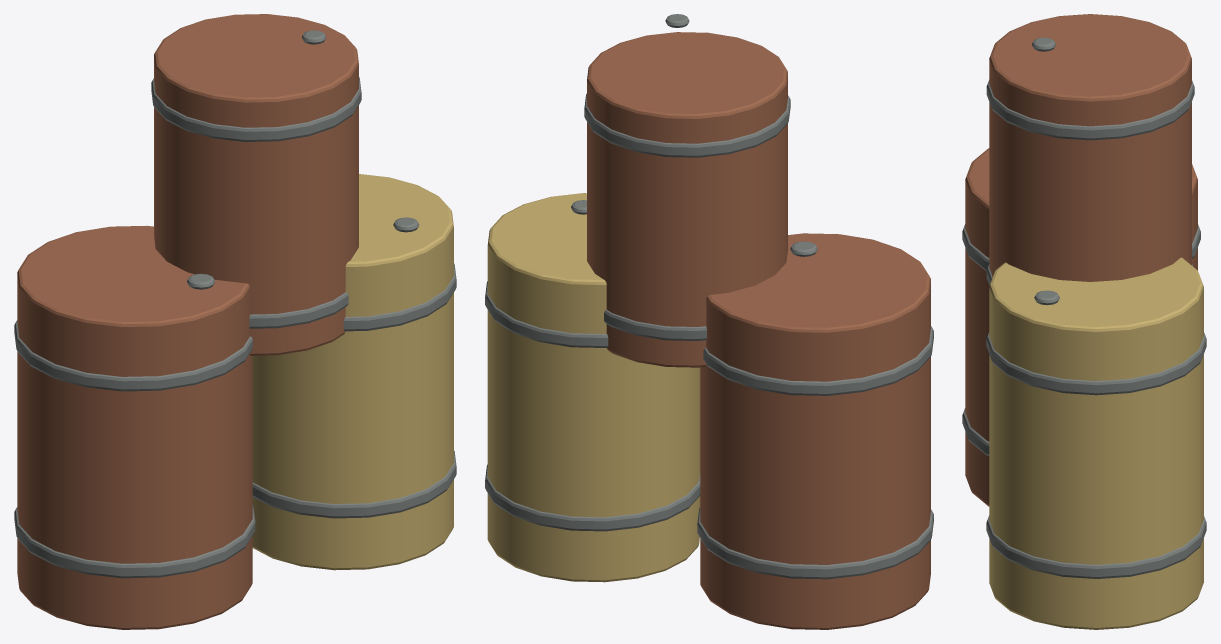
The model's file is Apoc_Prop_Rusty_Drum_Stack.fbx.
3 views of the same model, side by side, from view 1: azimuth 30°, elevation 25°; view 2: azimuth 150°, elevation 25°; view 3: azimuth 270°, elevation 25° (orthographic).
Visible parts, largest first — view 1: Apoc_Prop_Rusty_Drum_Stack; view 2: Apoc_Prop_Rusty_Drum_Stack; view 3: Apoc_Prop_Rusty_Drum_Stack.
Part boxes in pixels (left/top/right/bottom): Apoc_Prop_Rusty_Drum_Stack: left=14, top=14, right=456, bottom=629; Apoc_Prop_Rusty_Drum_Stack: left=485, top=14, right=933, bottom=629; Apoc_Prop_Rusty_Drum_Stack: left=962, top=14, right=1206, bottom=629.
Bounding box in the file's own units: 1.6 × 1.91 × 0.8188.
